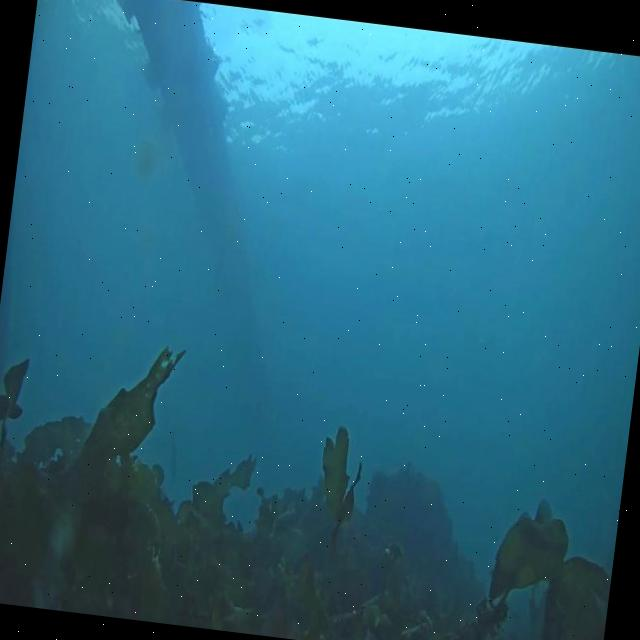fish: (164, 436, 184, 482)
